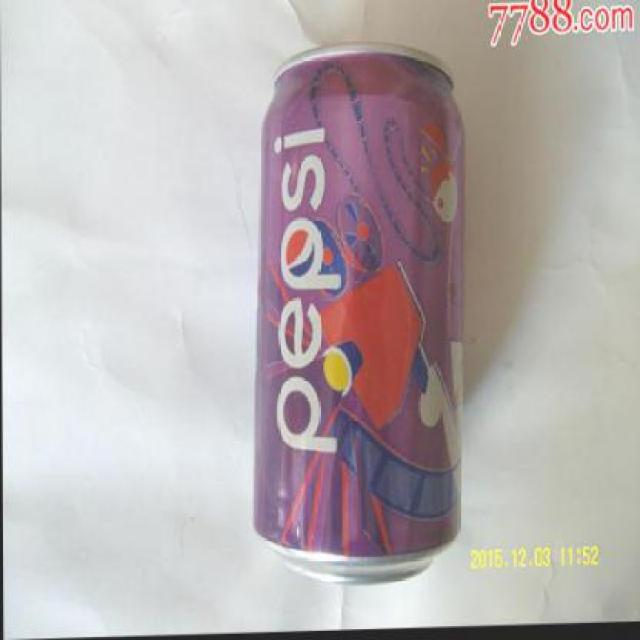Metal: (249, 37, 467, 585)
